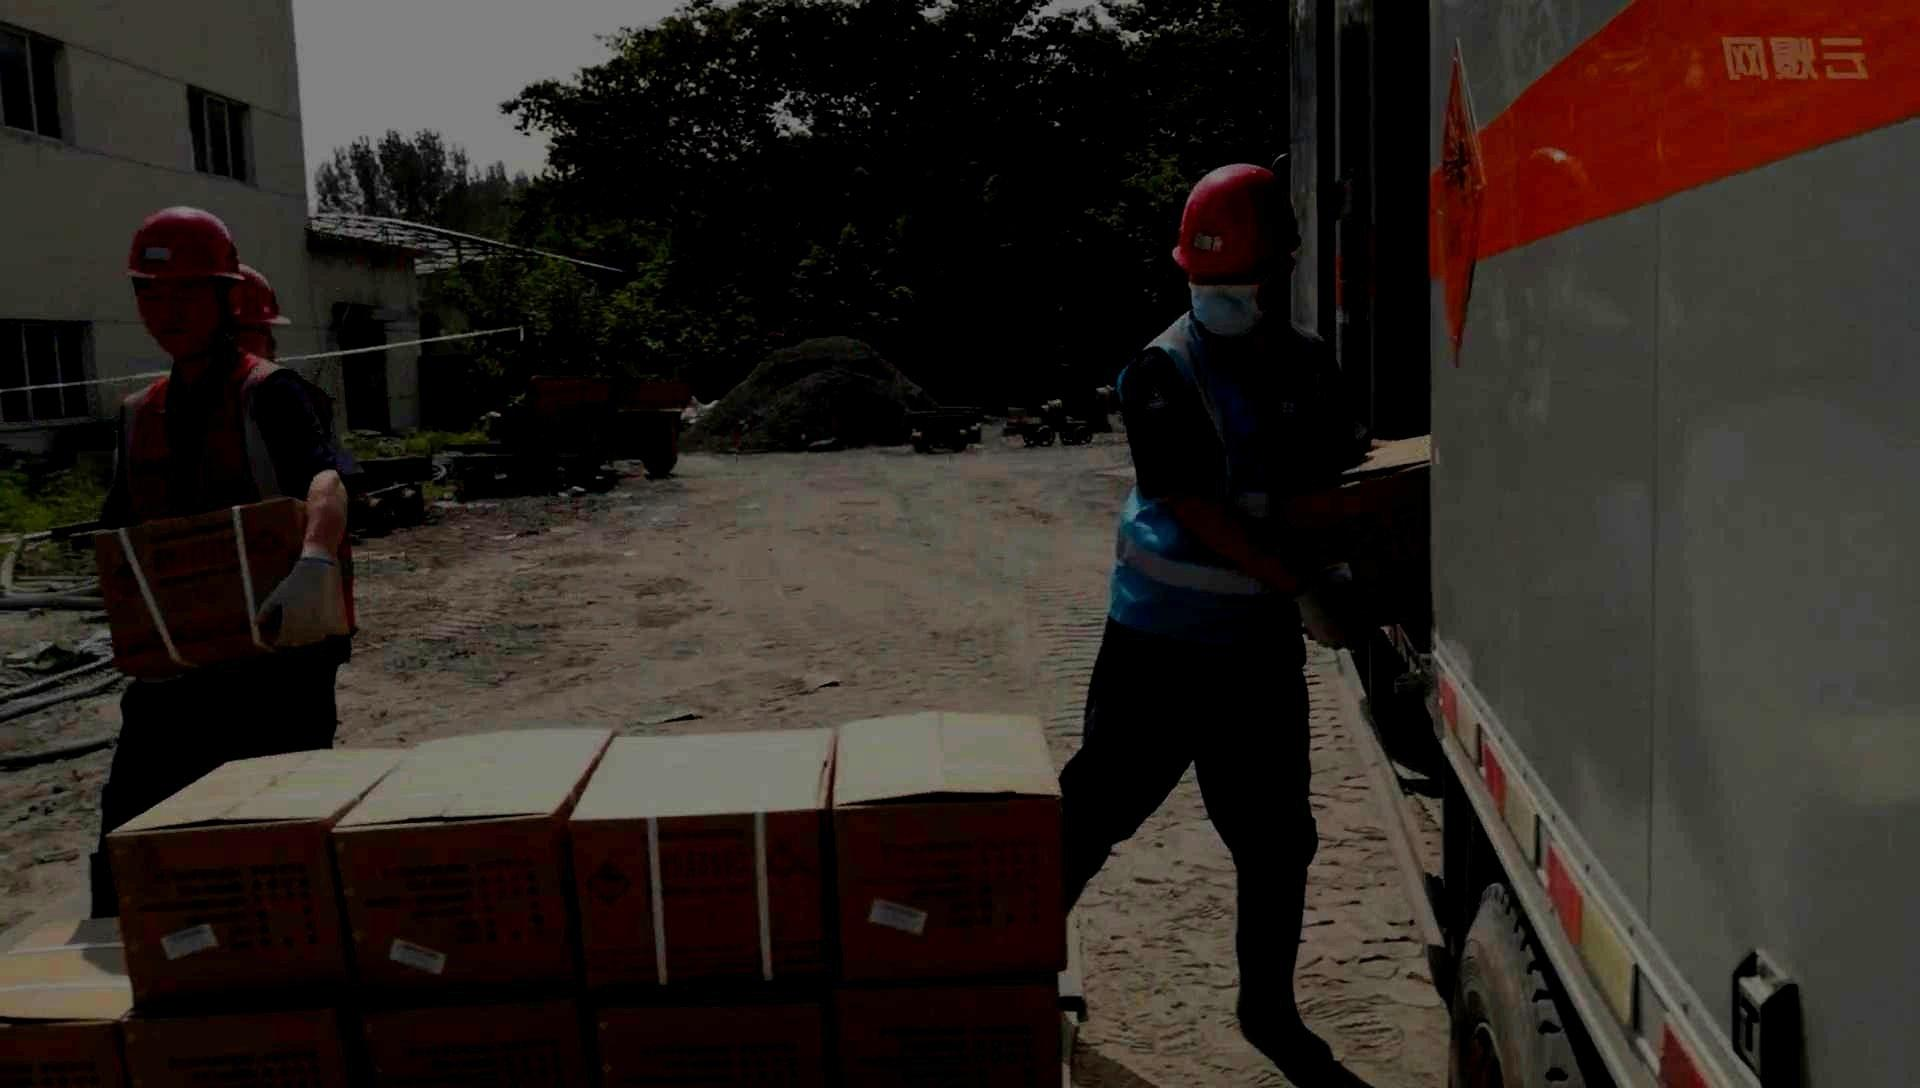helmet: (1170, 164, 1303, 335), (125, 204, 245, 357), (233, 262, 291, 361)
